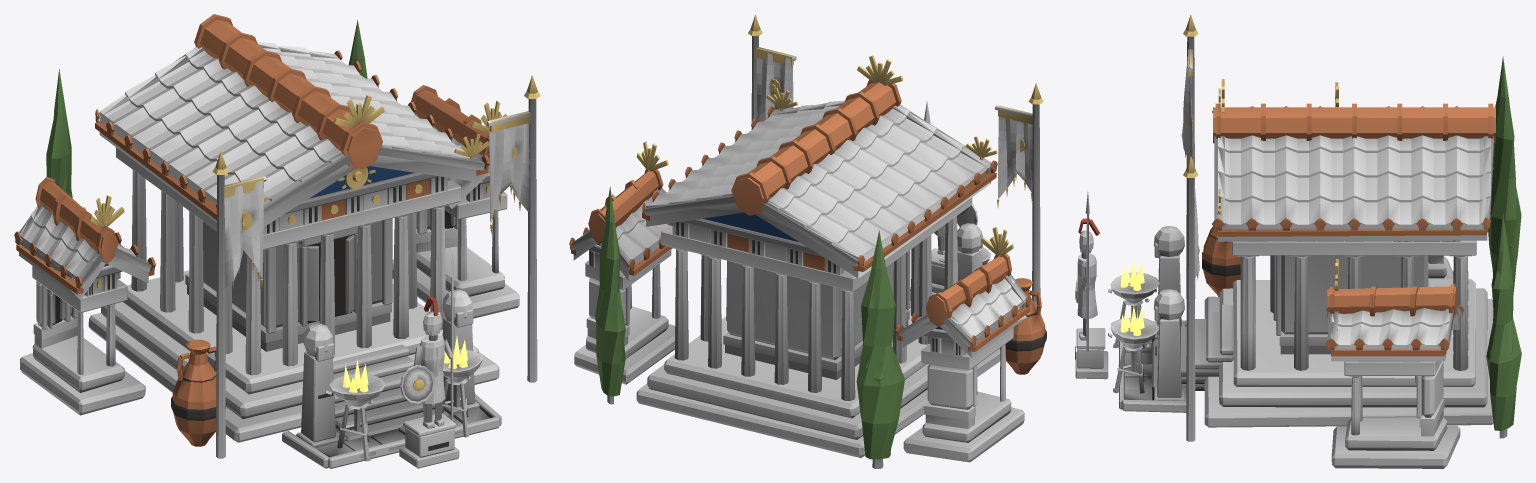
The model's file is polis-hall-l3.glb.
3 views of the same model, side by side, from view 1: azimuth 30°, elevation 25°; view 2: azimuth 150°, elevation 25°; view 3: azimuth 270°, elevation 25° (orthographic). The views are drawn at different scales.
Visible parts, largest first — view 1: polis-hall-l3; view 2: polis-hall-l3; view 3: polis-hall-l3.
Part boxes in pixels (x1,y1,x2,y2): polis-hall-l3: [14, 14, 540, 468]; polis-hall-l3: [569, 14, 1046, 468]; polis-hall-l3: [1075, 14, 1521, 468].
Size of the model in its own units: 1.63 by 1.08 by 1.52.
